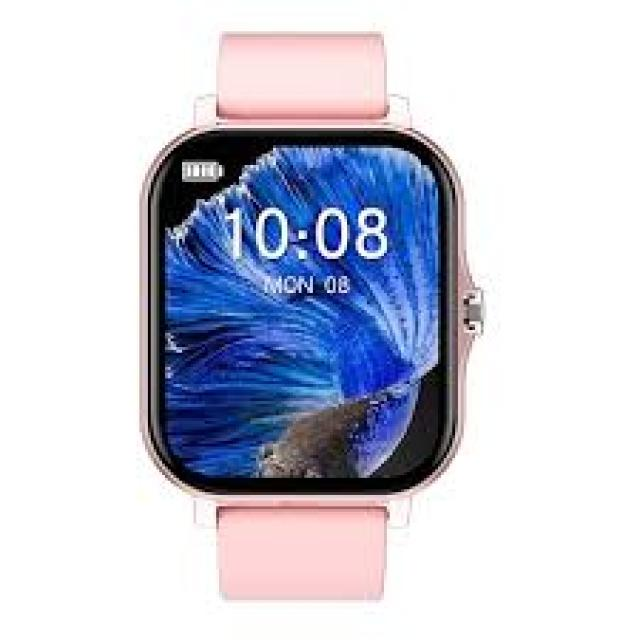objects: (142, 34, 485, 603)
